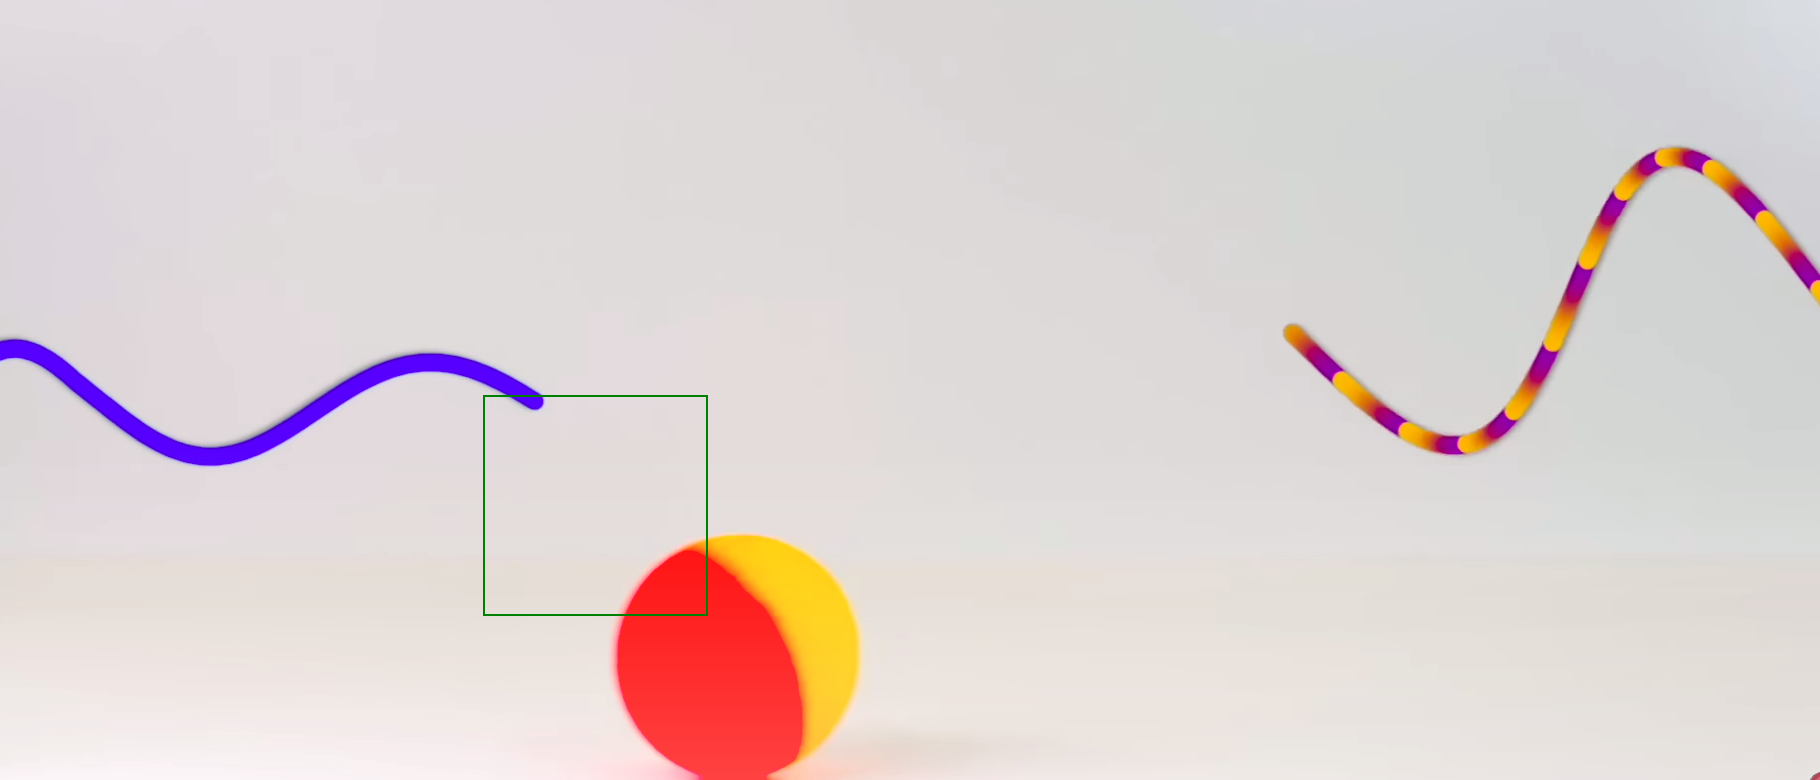Circle: (613, 530, 864, 780)
